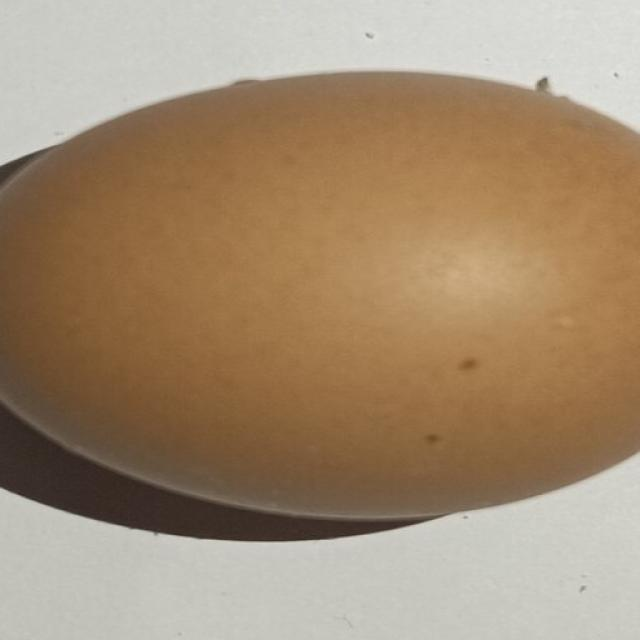fresh: (0, 55, 640, 533)
